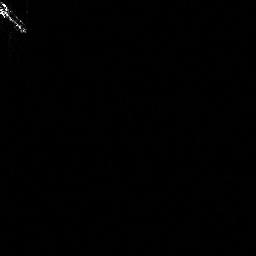ship: (1, 1, 28, 34)
